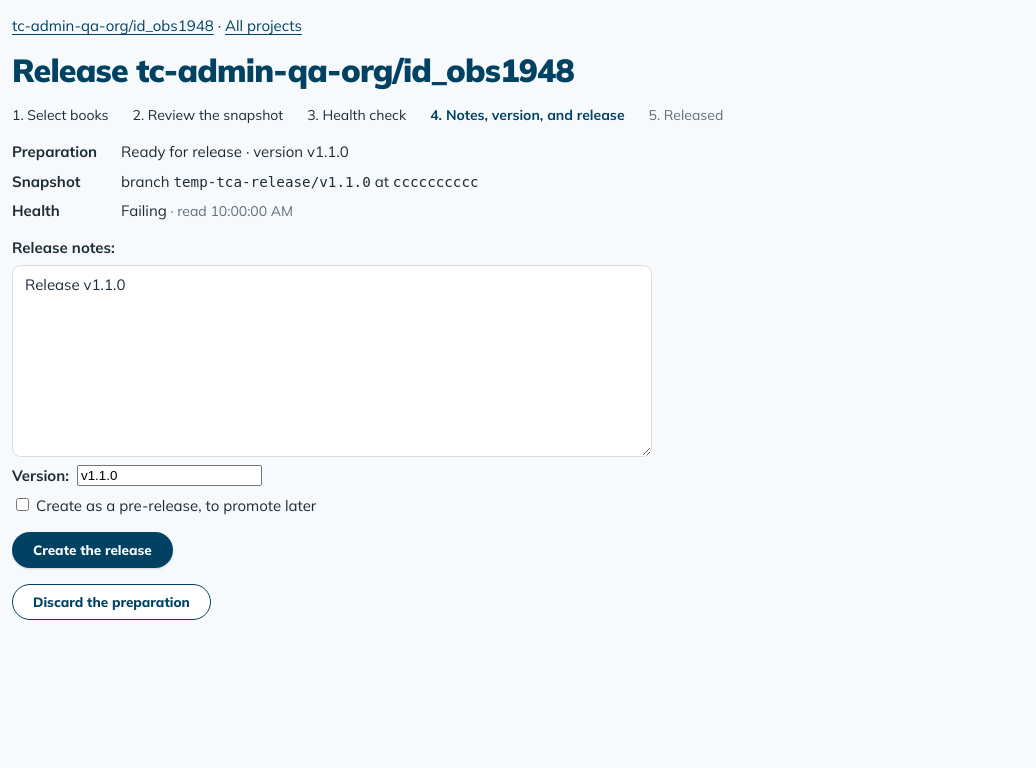
Test: a refused version (#161, found in the demo walkthrough) › R9, #161: Door43's refusal of the version goes when the version is changed, with nothing sent
Replace the text in the field labelled "Version:" with "v1.0.0" at (170, 476), box x1=77 y1=465 x2=262 y2=486
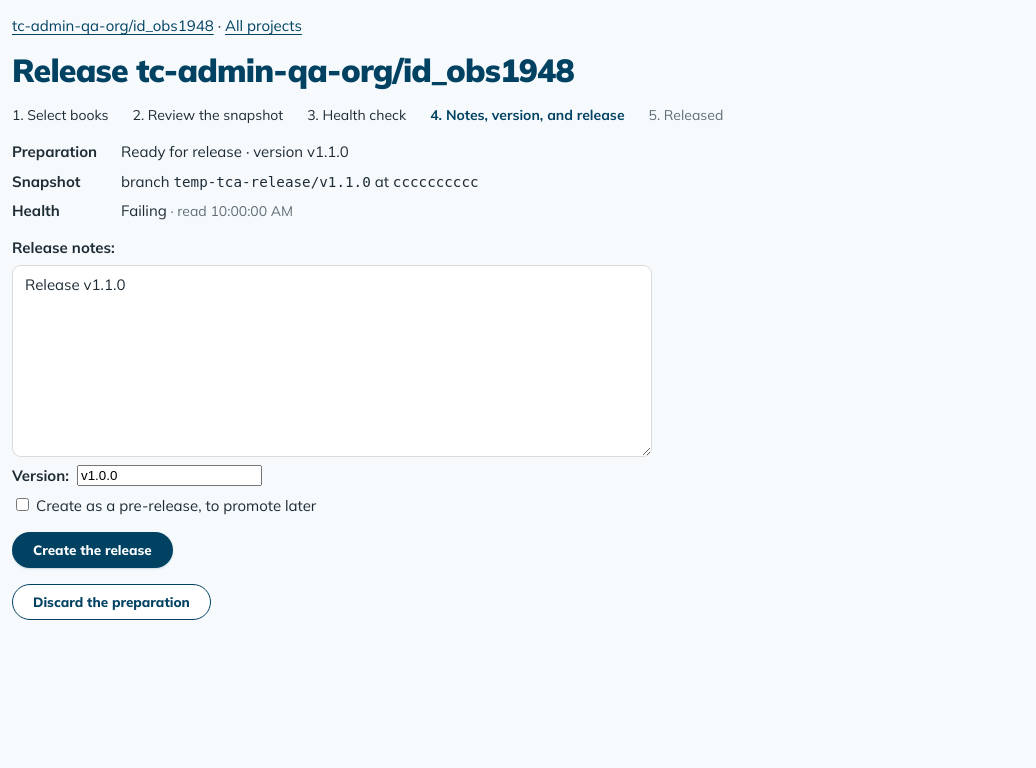
Click the button "Create the release" at (92, 550), box x1=12 y1=532 x2=173 y2=568
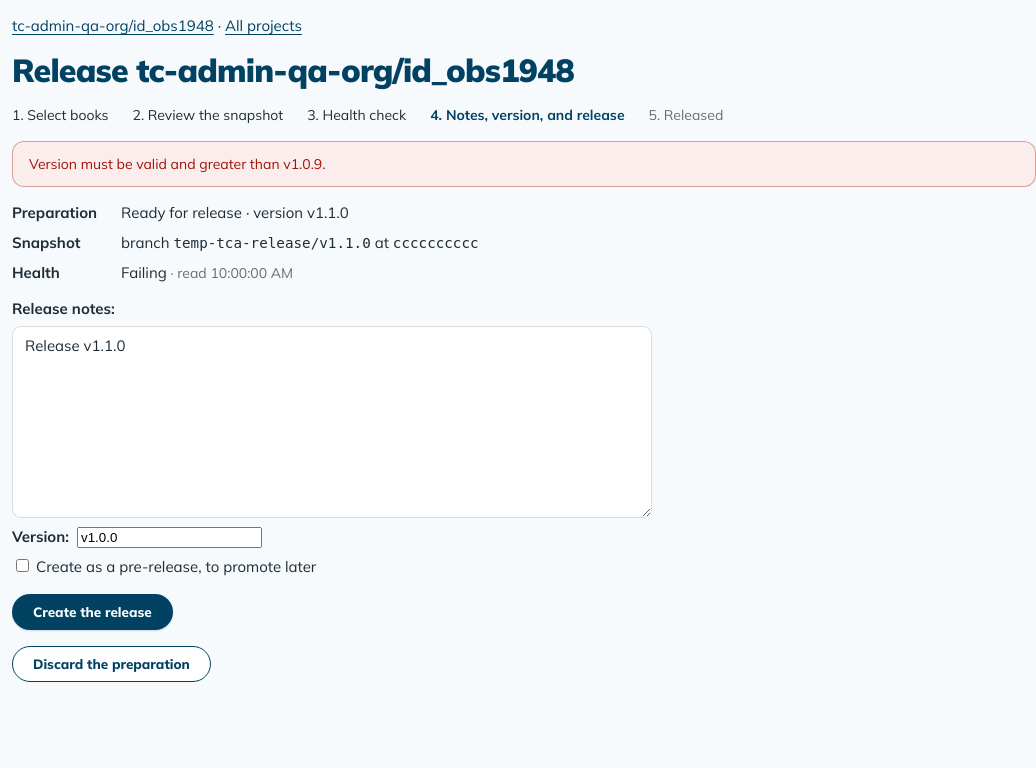
Expected: the message reads "Version must be valid and greater than v1.0.9.", x1=29 y1=155 x2=326 y2=173
Replace the text in the field labelled "Version:" with "v1.1.0" at (170, 537), box x1=77 y1=526 x2=262 y2=548
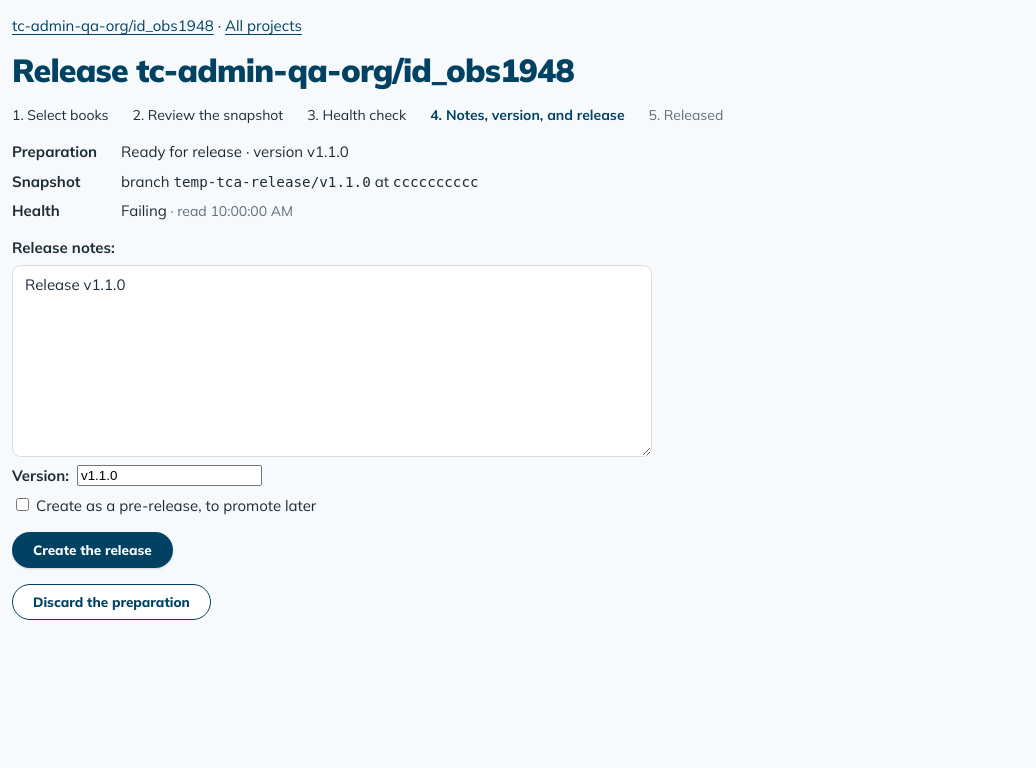
Expected: the text "Version must be valid and greater than v1.0.9." is gone
